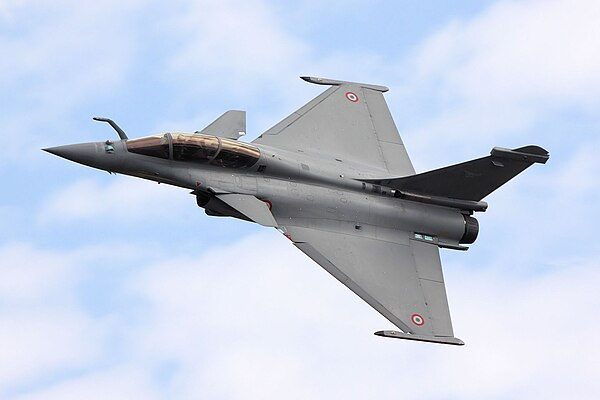Rafale: (39, 74, 552, 348)
